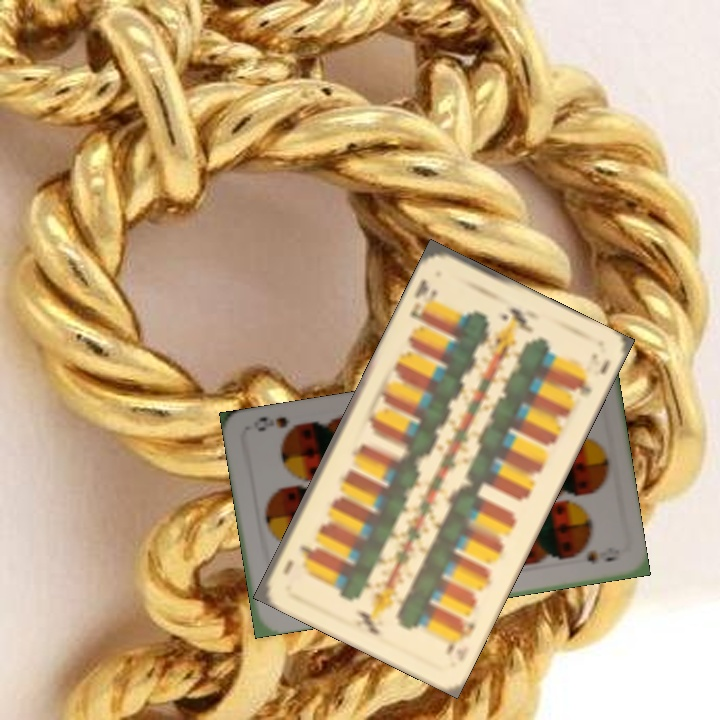E10: (406, 275, 440, 326), (442, 614, 477, 658)
